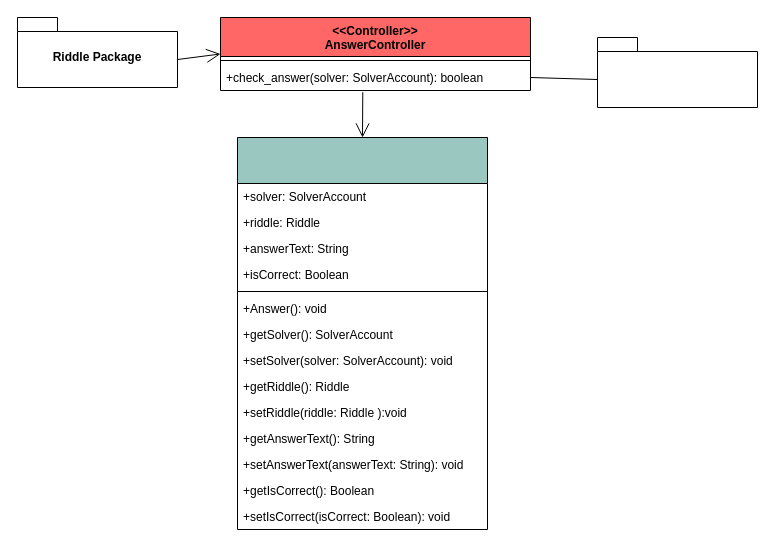
Image size: 775x550. Some labels were removed from this diagram. Here are the shapes that lost their labels. From the top down, the box of each, then its label:
(596, 36, 758, 108): SolverAccount Package
(236, 136, 488, 530): <<Entity>> Answer
